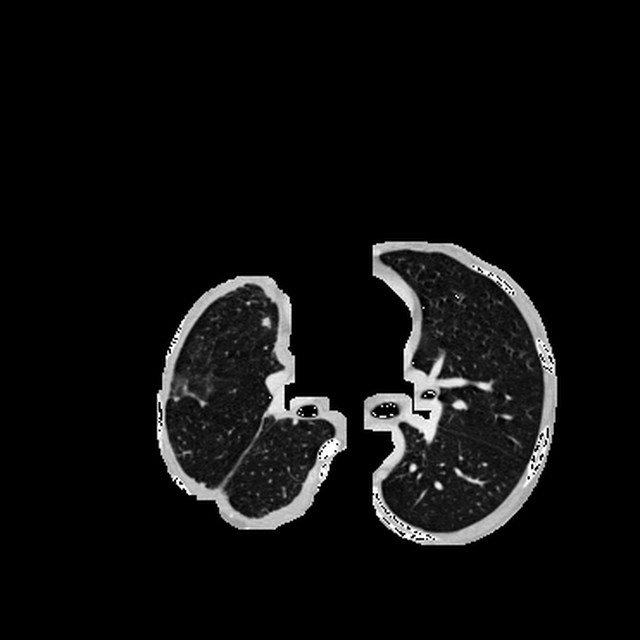PN: (260, 317, 271, 328)
